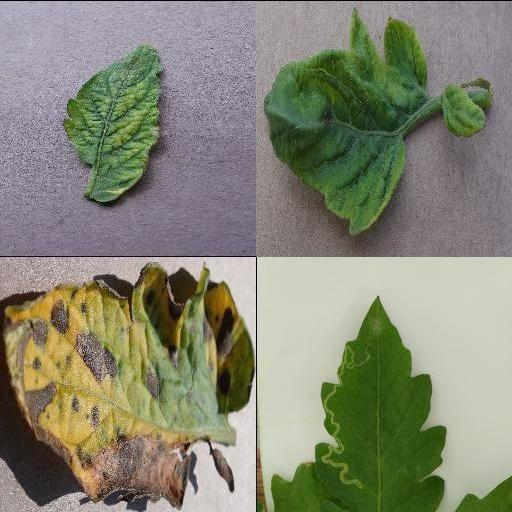Early Blight: (6, 262, 256, 507)
Leaf Miner: (315, 293, 447, 512)
Mosaic Virus: (64, 42, 166, 202)
Yellow Leaf Curl Virus: (261, 5, 431, 235), (440, 80, 488, 138)
